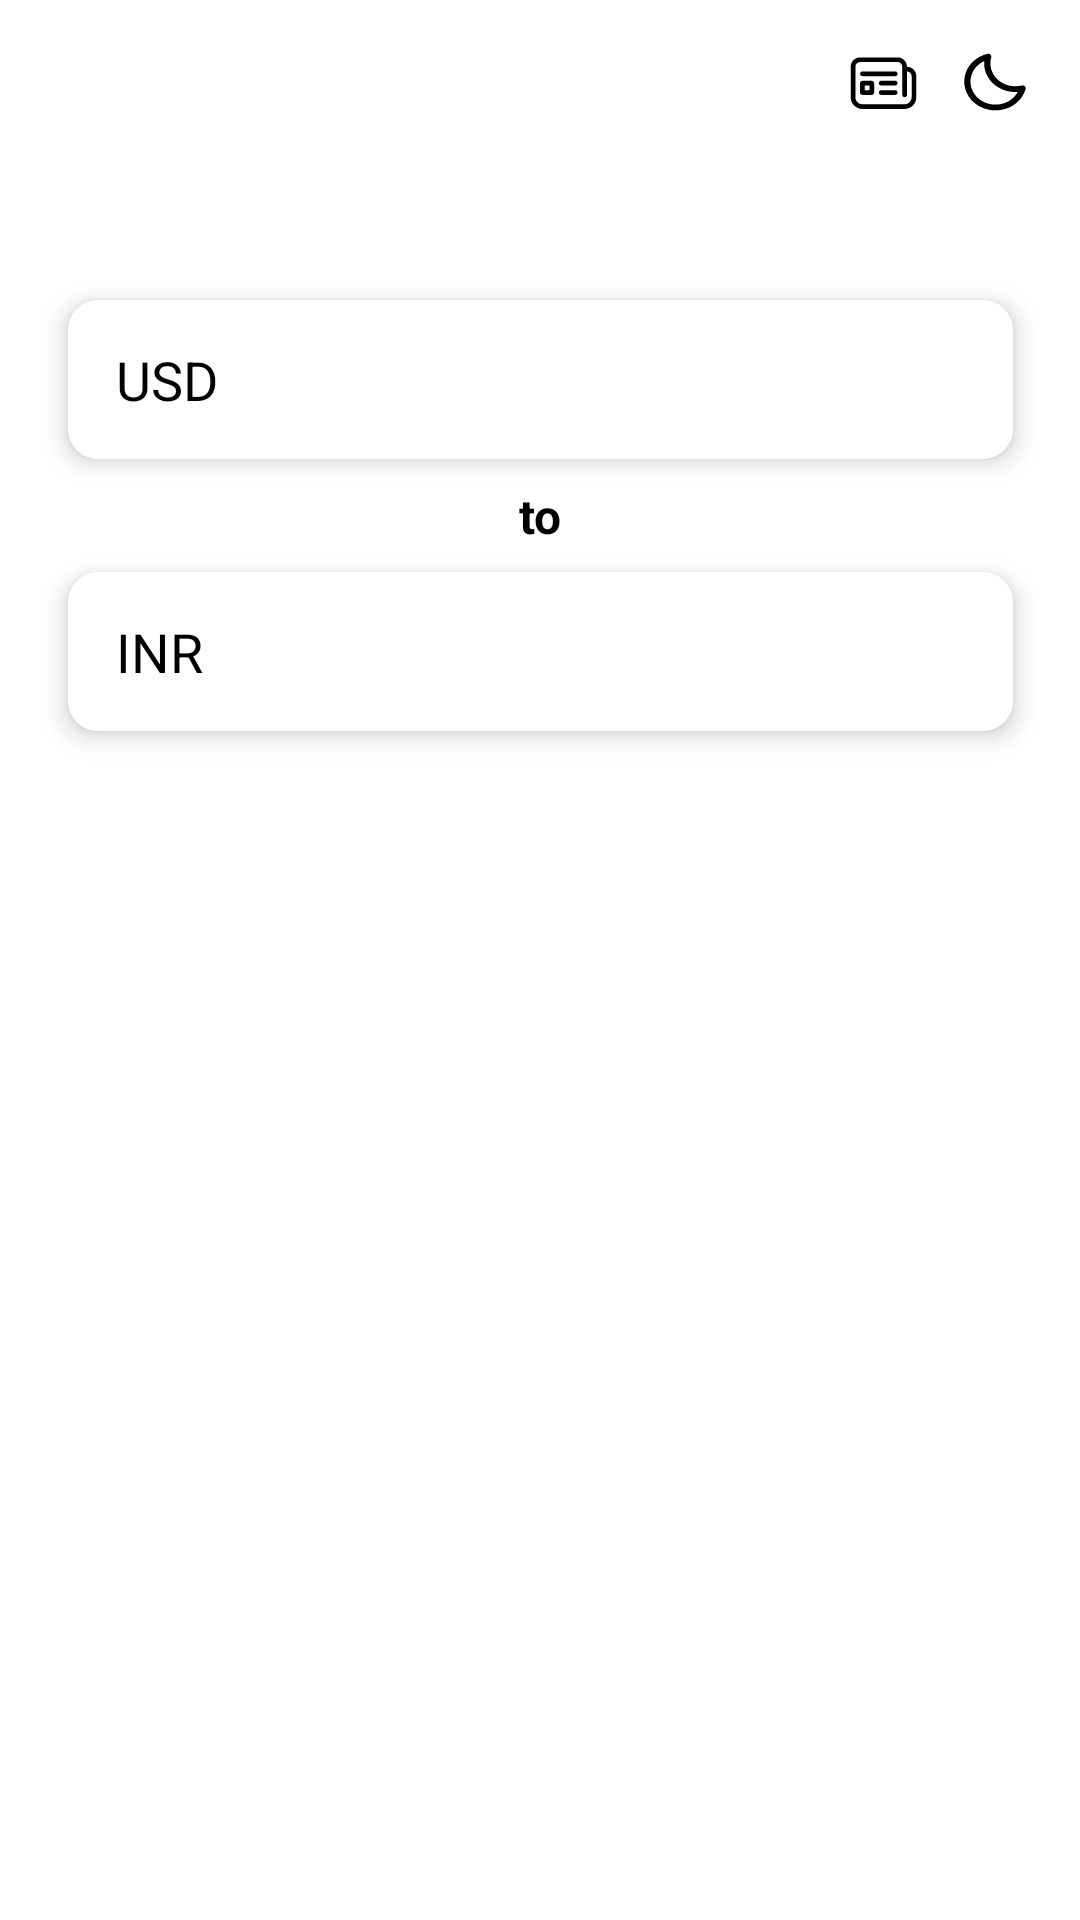

Icon click points for this 1080w x 1920h phone screenshot, format point (x, y):
moon: point (995, 82)
news: point (883, 83)
